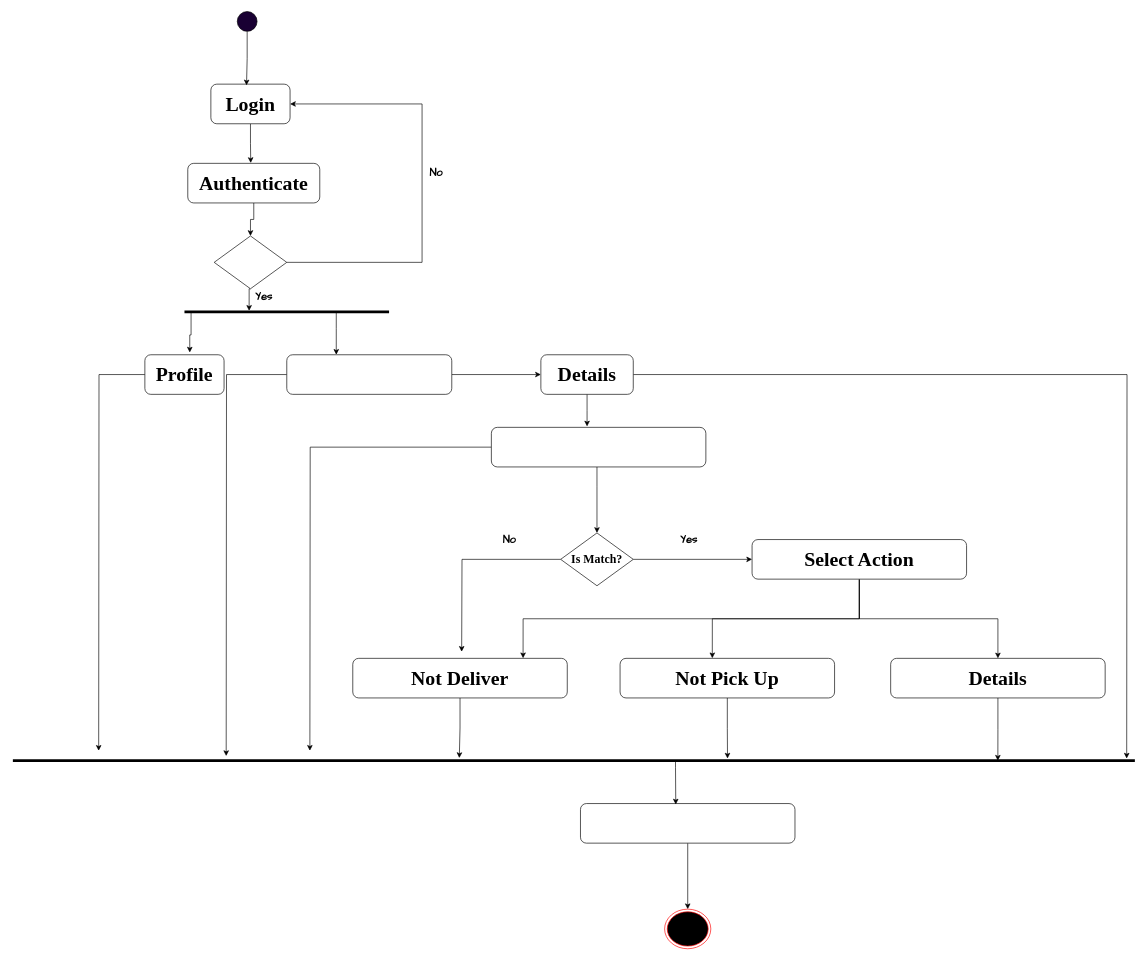
Some shapes in this 1147 by 960 pixel diagram are drawn without their labels. Each missing label, with the box of its shape:
Check new order: (286, 354, 452, 394)
Is Valid ?: (214, 235, 287, 289)
Logout: (580, 803, 795, 843)
Match Customer OTP: (491, 427, 706, 467)
